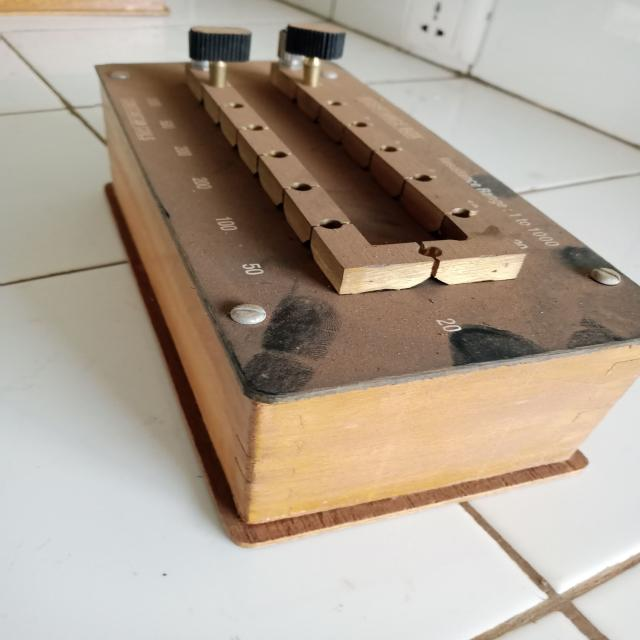Pinned Resistance Box: (75, 11, 640, 546)
